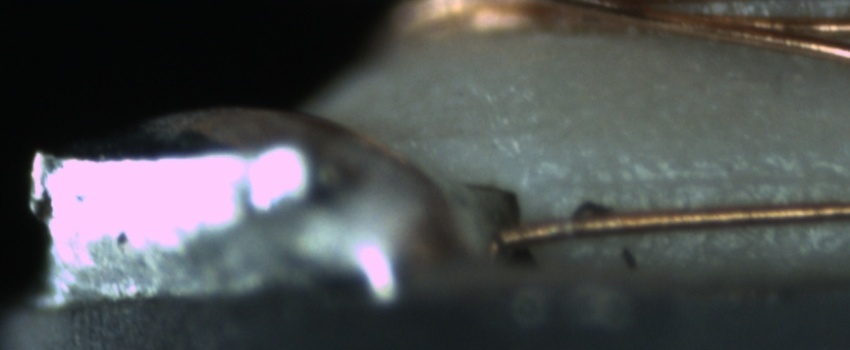DL: (579, 146, 850, 210)
